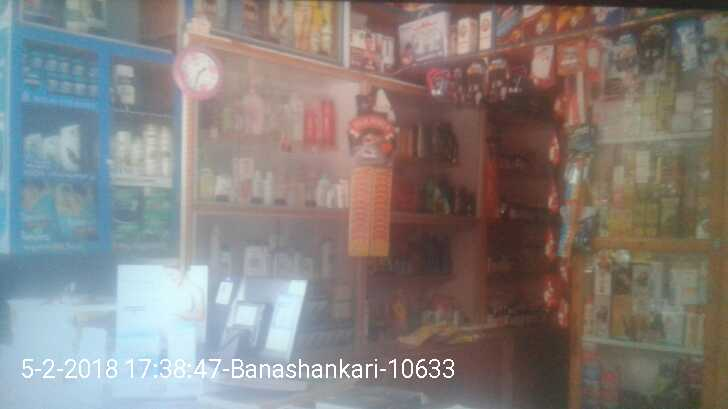beauty: (58, 117, 83, 174), (139, 116, 160, 175), (116, 61, 137, 113), (158, 123, 177, 180), (44, 128, 60, 172)
pharmacy: (53, 180, 96, 243), (17, 180, 56, 244), (112, 187, 146, 244), (141, 185, 172, 243), (58, 73, 77, 96), (72, 74, 90, 97), (42, 52, 58, 74), (71, 56, 86, 77), (28, 50, 44, 68), (57, 56, 72, 74)
